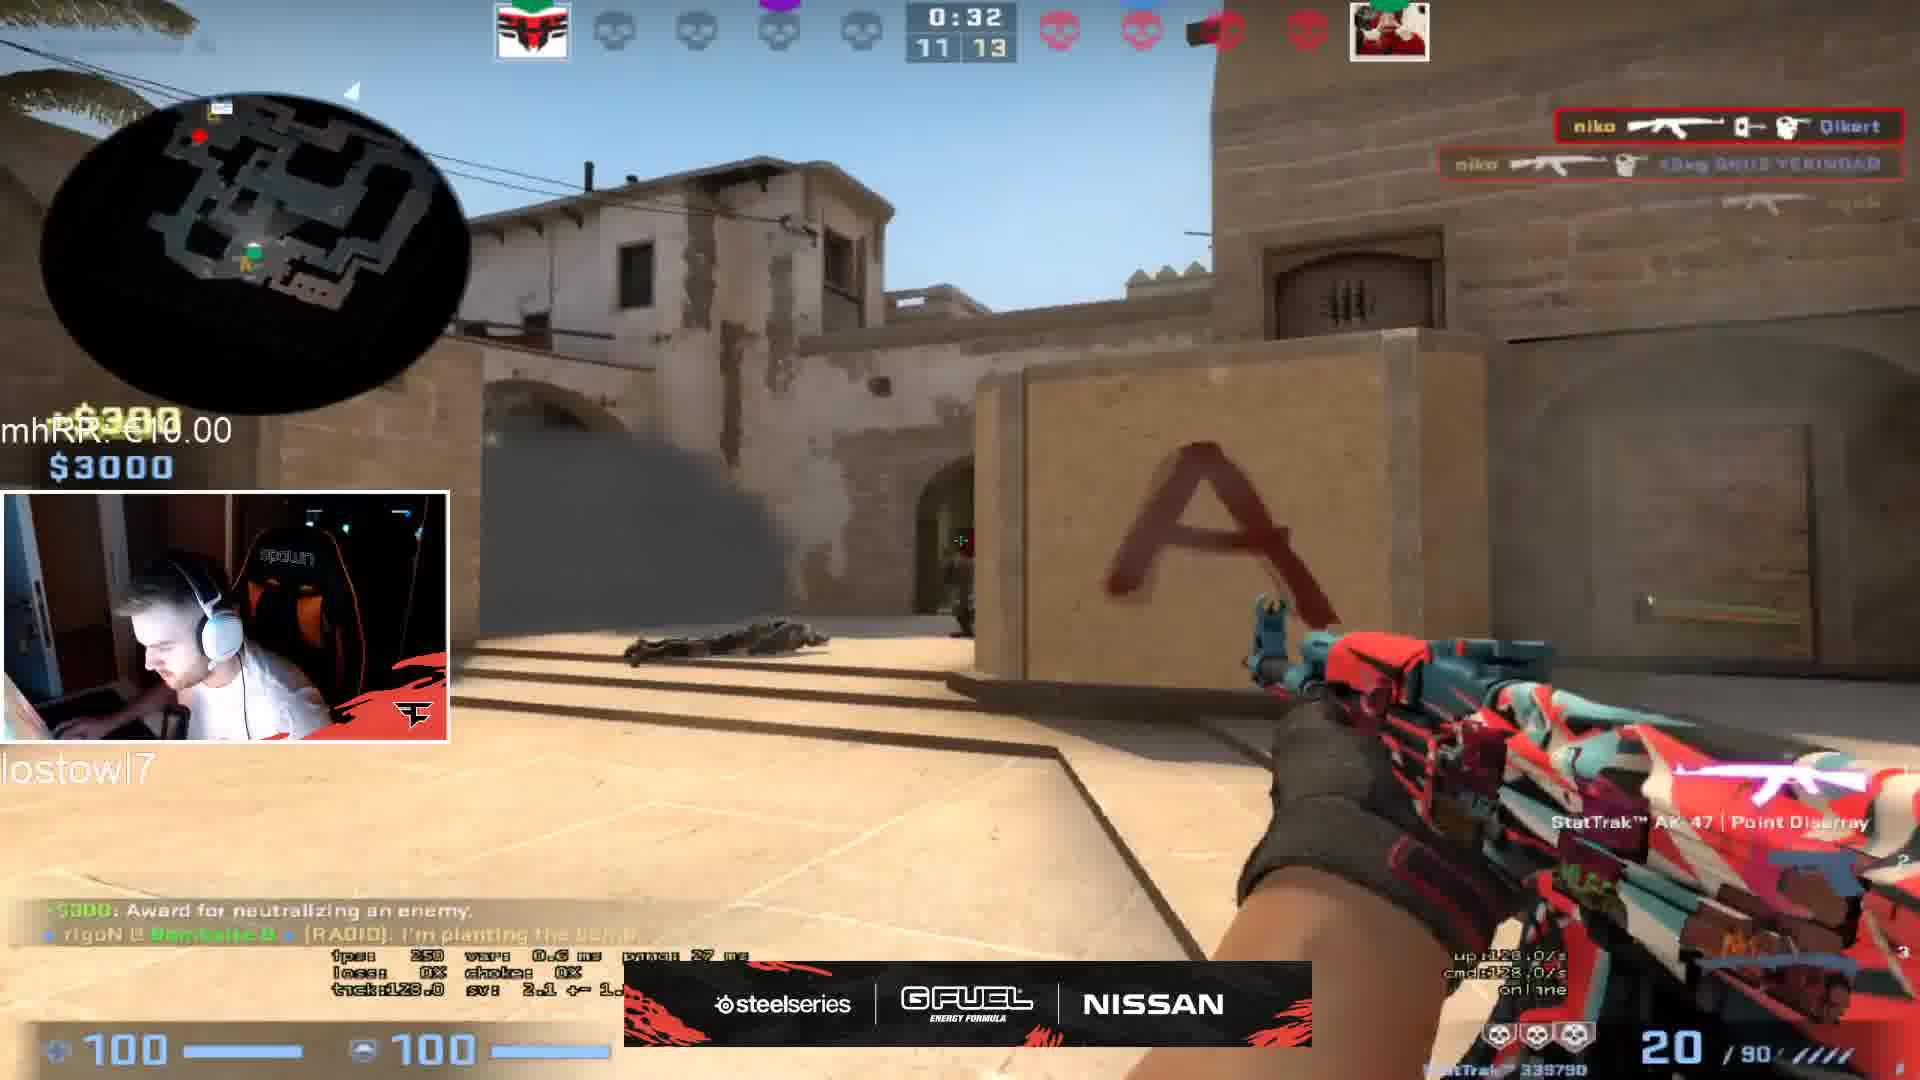enemy: (942, 547, 981, 644)
